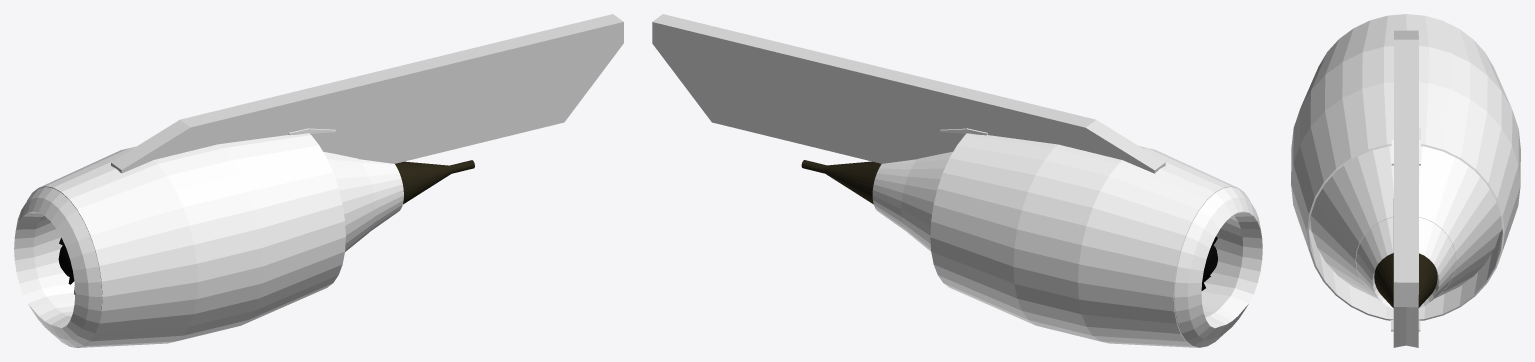
3 renders of one model, left to right at view 1: azimuth 30°, elevation 25°; view 2: azimuth 150°, elevation 25°; view 3: azimuth 270°, elevation 25°, orthographic. The views are drawn at different scales.
Visible parts, largest first — view 1: 円柱, 立方体.003, 円柱.003, 円柱.004, 円柱.005, 円柱.006; view 2: 円柱, 立方体.003, 円柱.003, 円柱.004, 円柱.005, 円柱.006; view 3: 円柱, 円柱.004, 立方体.003, 円柱.005, 円柱.006, 立方体.002.
Boxes of the visible parts, x1,y1,x2,y2 form: 円柱: (27, 133, 345, 347); 立方体.003: (111, 14, 623, 173); 円柱.003: (14, 187, 102, 347); 円柱.004: (323, 151, 375, 251); 円柱.005: (359, 159, 403, 231); 円柱.006: (395, 160, 474, 204); 円柱: (930, 133, 1249, 347); 立方体.003: (652, 14, 1165, 173); 円柱.003: (1174, 187, 1262, 347); 円柱.004: (901, 152, 952, 251); 円柱.005: (872, 159, 916, 231); 円柱.006: (801, 160, 881, 204); 円柱: (1291, 14, 1520, 320); 円柱.004: (1310, 146, 1501, 298); 立方体.003: (1393, 30, 1418, 347); 円柱.005: (1356, 217, 1455, 308); 円柱.006: (1374, 253, 1437, 307); 立方体.002: (1391, 128, 1420, 165).
Bounding box in the file's own units: 17.98 × 6.1 × 5.43.
